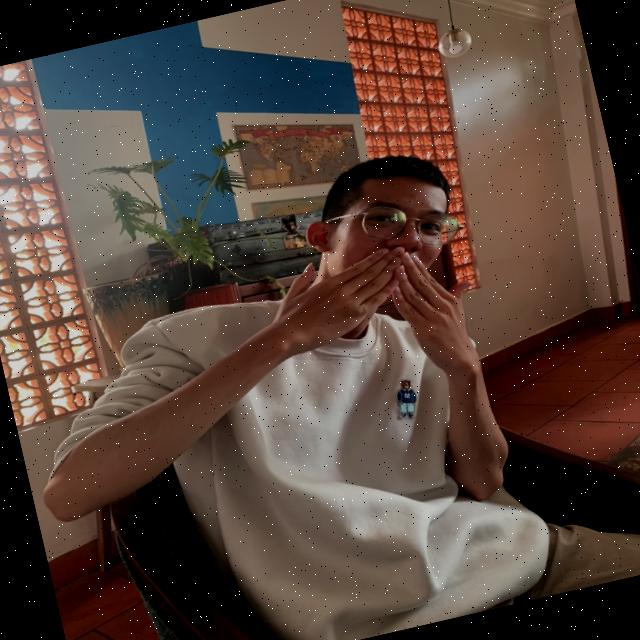thanks: (263, 214, 488, 413)
